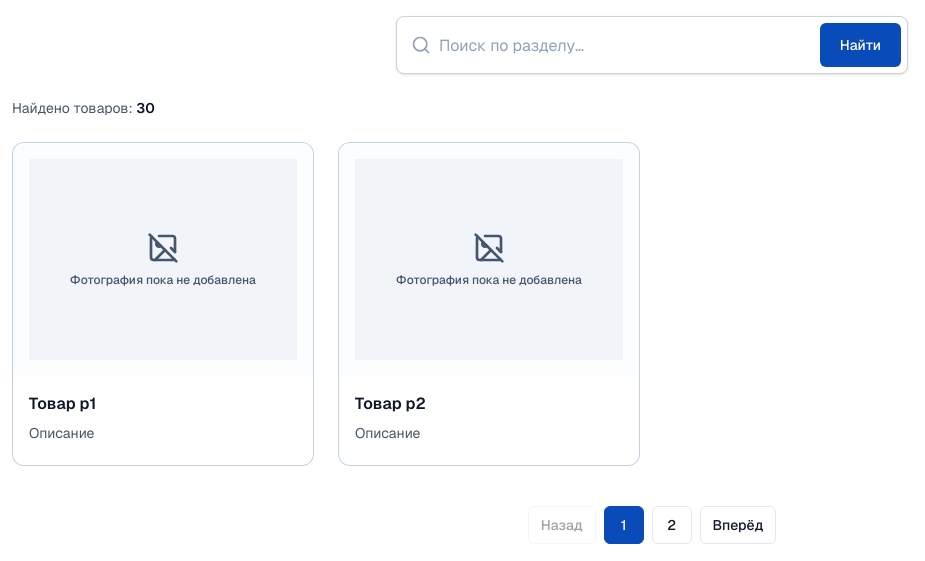
Test: ClientCatalogSearch: параметры API для других страниц семейства › страница brand+category+subcategory передаёт все три фильтра
Click the link "Вперёд" at {"x": 738, "y": 525}, box left=700, top=506, right=776, bottom=544
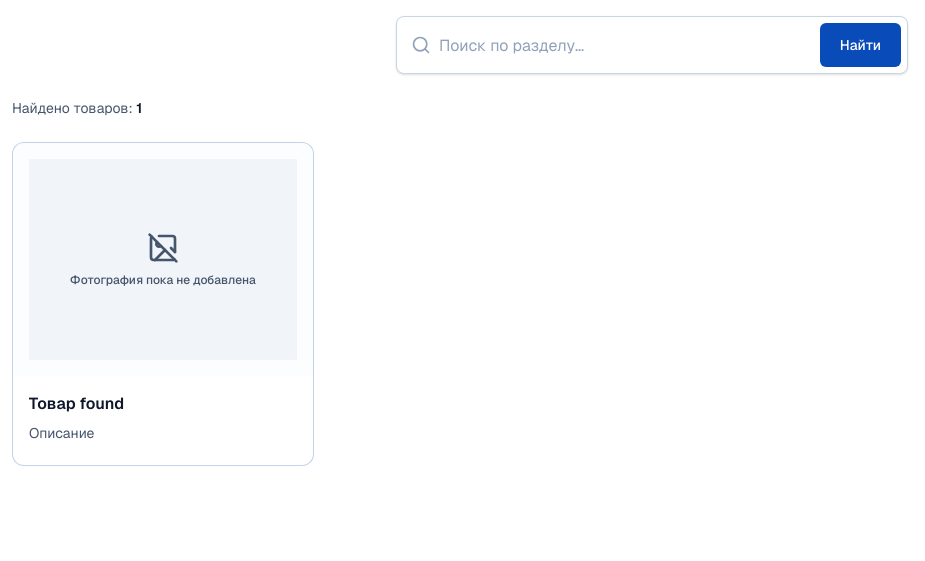
Result: the text "Товар found" is shown at left=29, top=393, right=124, bottom=414
